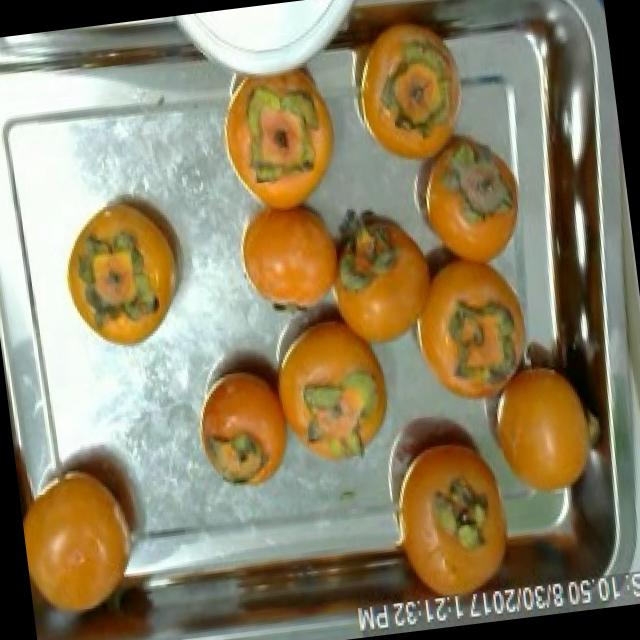Fruit: (338, 401, 520, 627), (259, 287, 412, 489), (14, 432, 160, 638), (384, 109, 538, 288), (334, 0, 484, 183), (49, 182, 200, 361), (204, 46, 358, 220), (316, 188, 457, 368), (478, 340, 608, 518), (225, 172, 362, 334), (180, 344, 304, 506)
